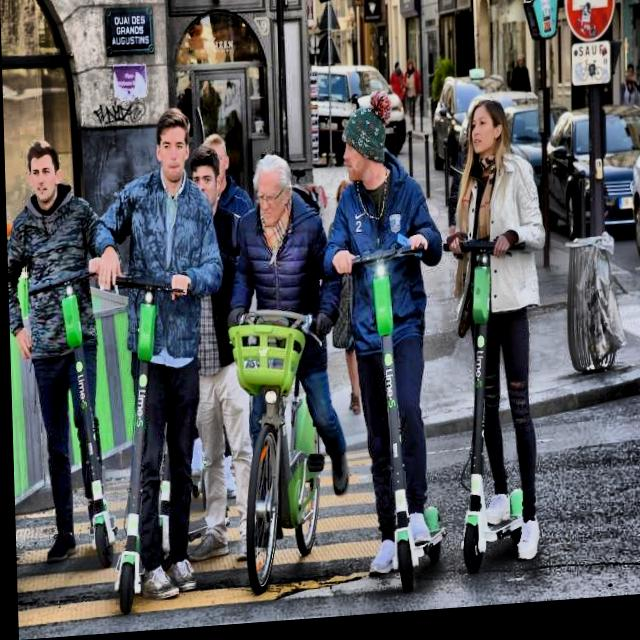bare_head: (458, 99, 553, 162), (334, 103, 404, 183), (148, 117, 204, 188)
human: (326, 94, 439, 568), (453, 89, 569, 542), (122, 110, 206, 594)
kickboard: (462, 464, 562, 586), (357, 473, 451, 585), (102, 533, 222, 617)
